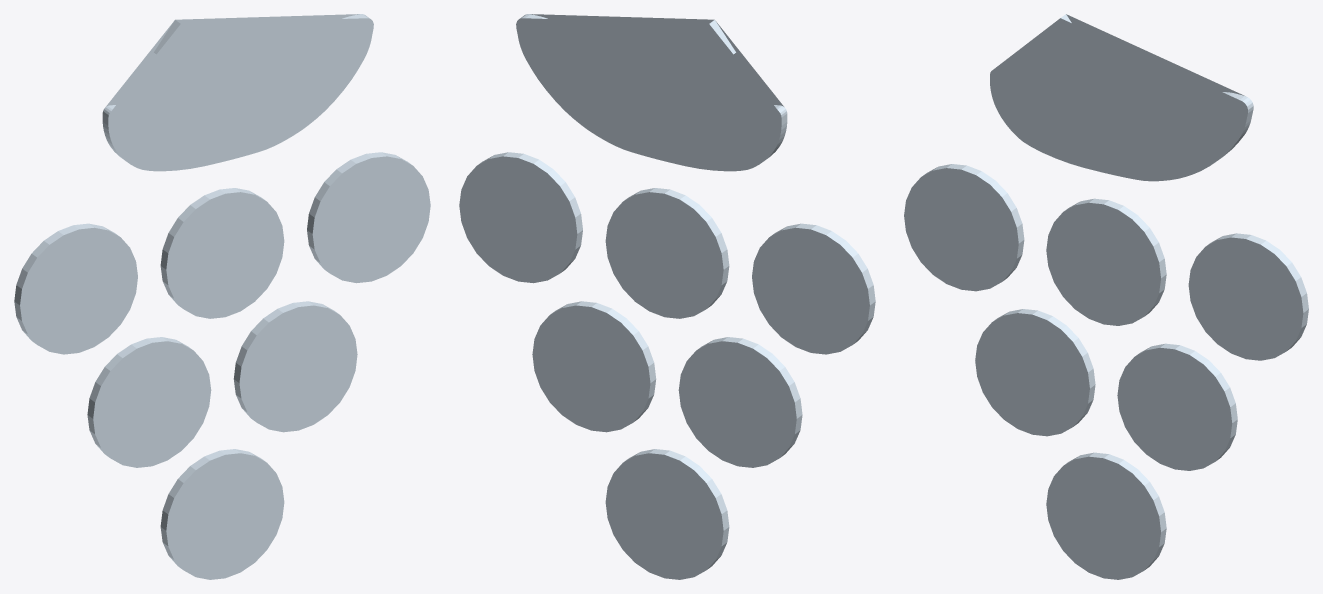
The model's file is Grapes_3D_Icon.fbx.
The picture shows the model from 3 angles, left to right: view 1: azimuth 30°, elevation 25°; view 2: azimuth 150°, elevation 25°; view 3: azimuth 330°, elevation 25°; orthographic projection. The views are drawn at different scales.
Parts seen in each view (by area): view 1: Grapes_3D_Icon; view 2: Grapes_3D_Icon; view 3: Grapes_3D_Icon.
Boxes of the visible parts, x1=… form: Grapes_3D_Icon: x1=14, y1=14, x2=430, y2=579; Grapes_3D_Icon: x1=459, y1=14, x2=875, y2=579; Grapes_3D_Icon: x1=904, y1=14, x2=1308, y2=579.
Size of the model in its own units: 82.53 by 109 by 2.
